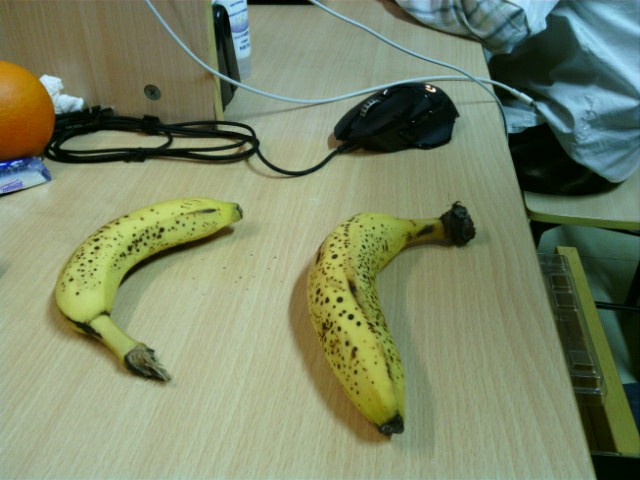normal_banana: (307, 202, 474, 435), (54, 199, 244, 383)
